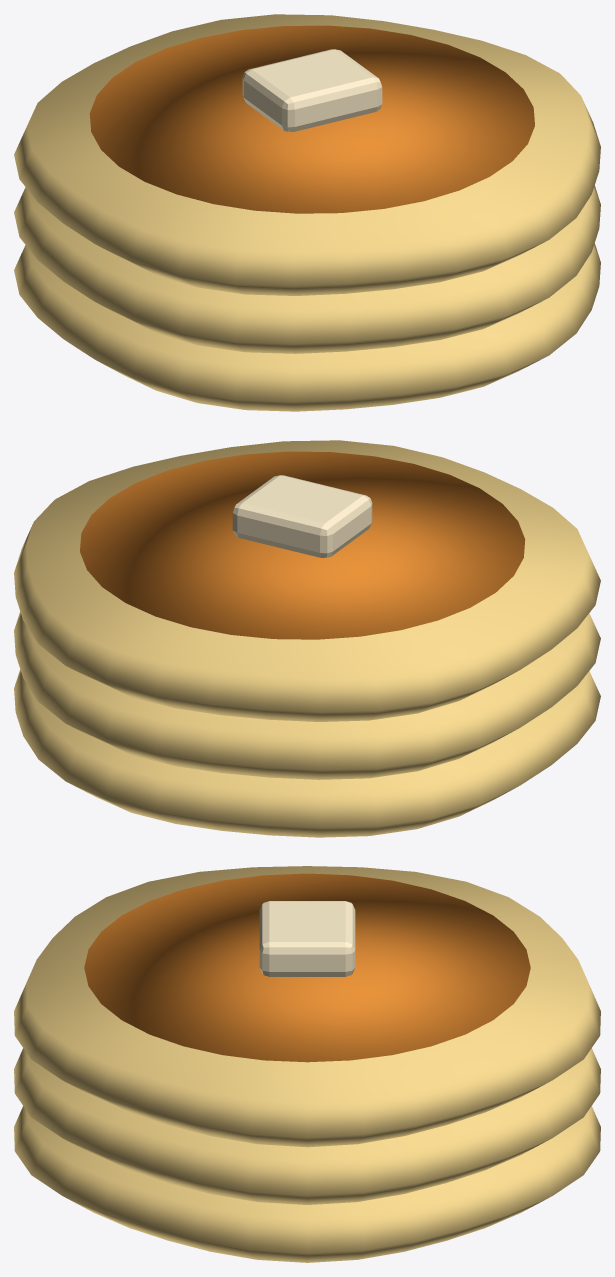
File: sweet-carrot-pancakes.glb
3 renders of one model, top to bottom at view 1: azimuth 30°, elevation 25°; view 2: azimuth 150°, elevation 25°; view 3: azimuth 270°, elevation 25°, orthographic.
Visible parts, largest first — view 1: edible_pancake.005, edible_sauce.001, edible_pancake.003, edible_pancake.004, edible_butter.001; view 2: edible_pancake.005, edible_sauce.001, edible_pancake.003, edible_pancake.004, edible_butter.001; view 3: edible_pancake.005, edible_sauce.001, edible_pancake.004, edible_pancake.003, edible_butter.001.
Part boxes in pixels (<box>): edible_pancake.005: <box>14,14,600,295</box>; edible_sauce.001: <box>89,25,534,213</box>; edible_pancake.003: <box>14,243,600,411</box>; edible_pancake.004: <box>14,185,600,353</box>; edible_butter.001: <box>242,49,382,131</box>; edible_pancake.005: <box>14,440,600,721</box>; edible_sauce.001: <box>80,451,525,639</box>; edible_pancake.003: <box>14,669,600,837</box>; edible_pancake.004: <box>14,611,600,779</box>; edible_butter.001: <box>232,475,372,557</box>; edible_pancake.005: <box>14,866,600,1147</box>; edible_sauce.001: <box>84,873,530,1062</box>; edible_pancake.004: <box>14,1048,600,1204</box>; edible_pancake.003: <box>14,1106,600,1262</box>; edible_butter.001: <box>259,901,355,976</box>.
Size of the model in its own units: 0.184 by 0.08 by 0.184.
